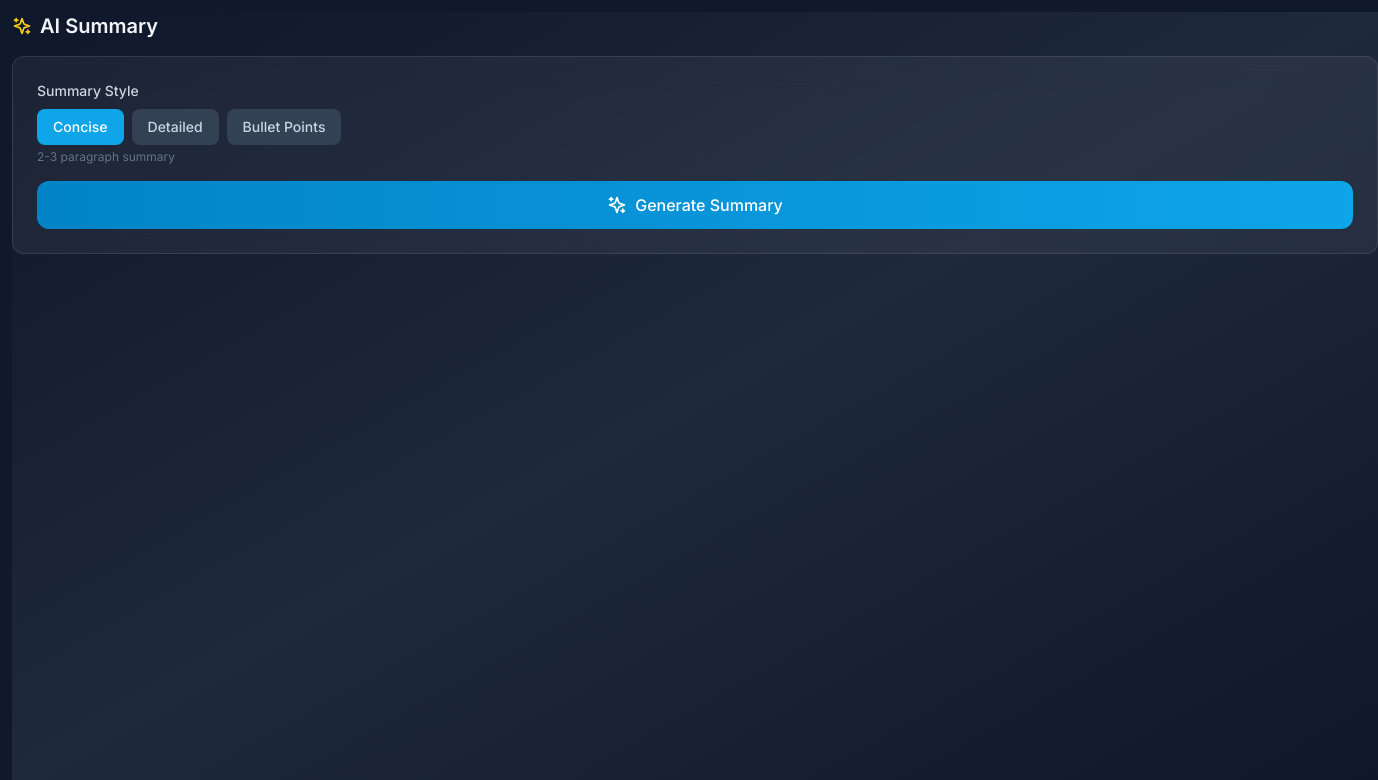
Test: SummaryPanel Component › should show error message on failure
Click the button "Generate Summary" at (695,205), box [37,181,1353,229]
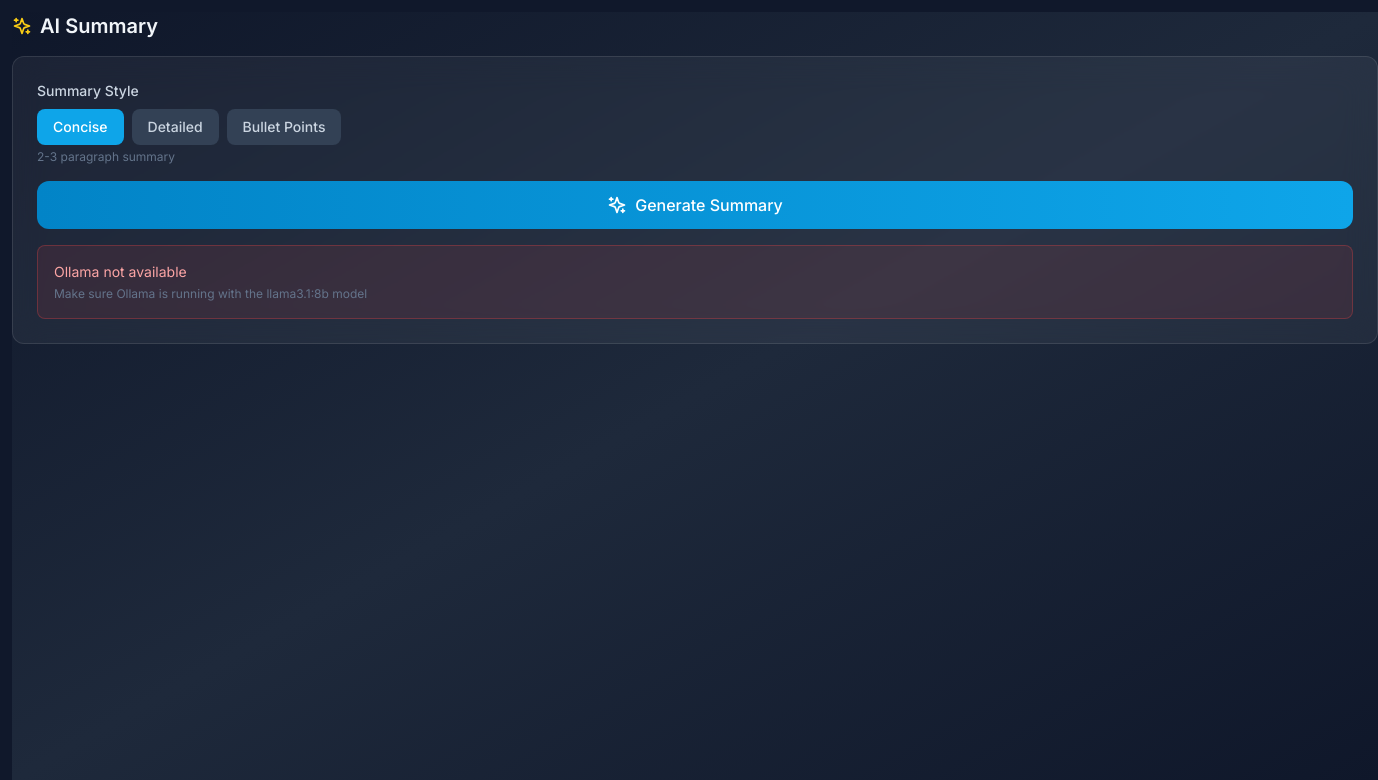
expect the text "Ollama not available" is shown: met, box [54,263,187,280]
